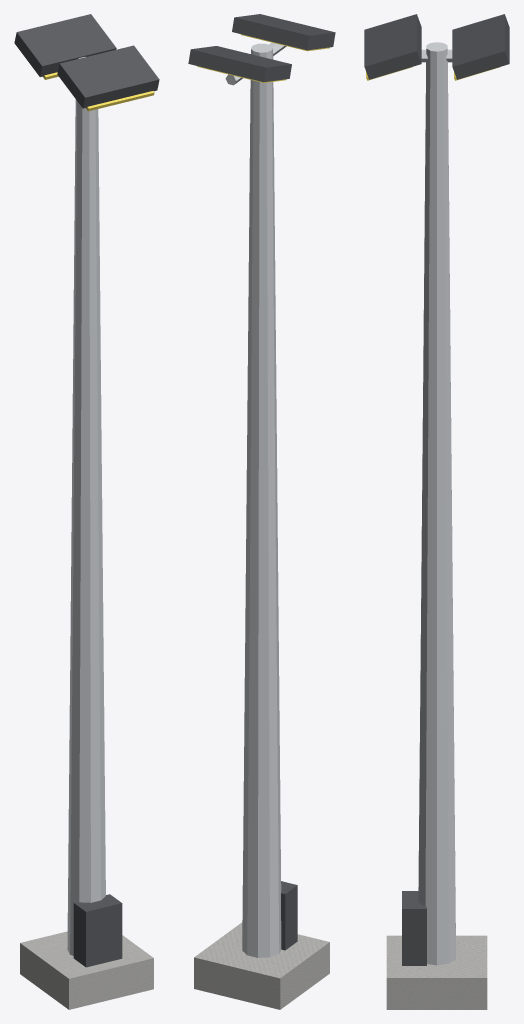
Rendered from floodlight.glb.
3 views of the same model, side by side, from view 1: azimuth 30°, elevation 25°; view 2: azimuth 150°, elevation 25°; view 3: azimuth 270°, elevation 25° (orthographic). The views are drawn at different scales.
Parts seen in each view (by area): view 1: floodlight-mast-steel, floodlight-mast-charcoal, floodlight-mast-concrete, floodlight-mast-canary; view 2: floodlight-mast-steel, floodlight-mast-concrete, floodlight-mast-charcoal; view 3: floodlight-mast-steel, floodlight-mast-charcoal, floodlight-mast-concrete.
Part boxes in pixels (<box>): floodlight-mast-steel: <box>67,56,105,955</box>; floodlight-mast-charcoal: <box>14,14,159,967</box>; floodlight-mast-concrete: <box>20,931,153,1009</box>; floodlight-mast-canary: <box>43,72,154,111</box>; floodlight-mast-steel: <box>225,42,286,957</box>; floodlight-mast-concrete: <box>194,922,329,1009</box>; floodlight-mast-charcoal: <box>188,14,335,950</box>; floodlight-mast-steel: <box>418,42,455,965</box>; floodlight-mast-charcoal: <box>364,14,509,965</box>; floodlight-mast-concrete: <box>386,935,487,1009</box>.
Bounding box in the file's own units: 0.8 × 8.41 × 1.16.
Materials: 4 (1 with a texture image).
